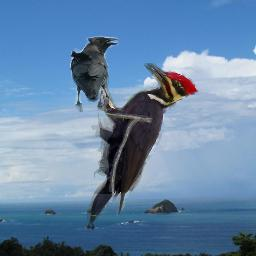Crow: (70, 34, 119, 112)
Woodpecker: (87, 63, 199, 226)
